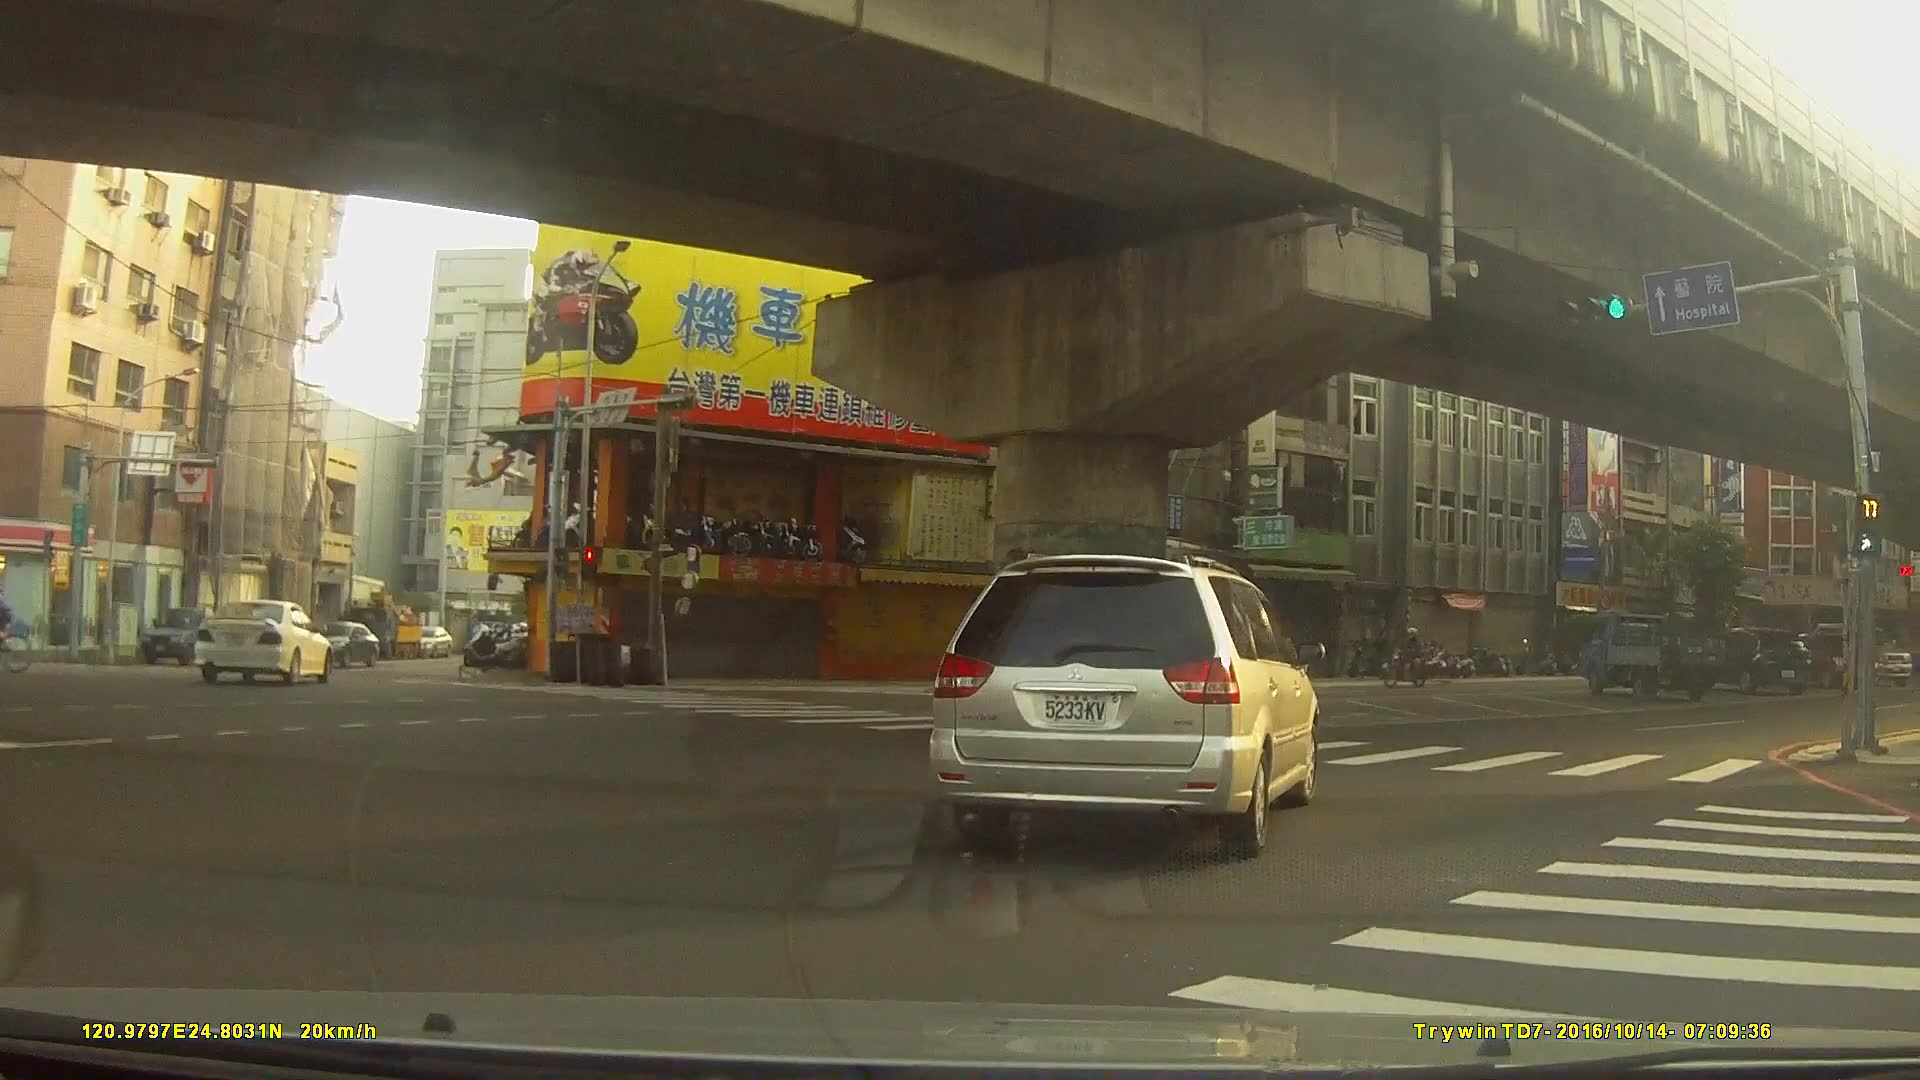rider: (1381, 628, 1438, 690), (1, 579, 34, 675)
vehicle: (925, 553, 1317, 857), (1578, 610, 1729, 699), (191, 596, 332, 683), (1692, 628, 1812, 695), (141, 603, 234, 664), (309, 620, 379, 665), (411, 626, 451, 657)
